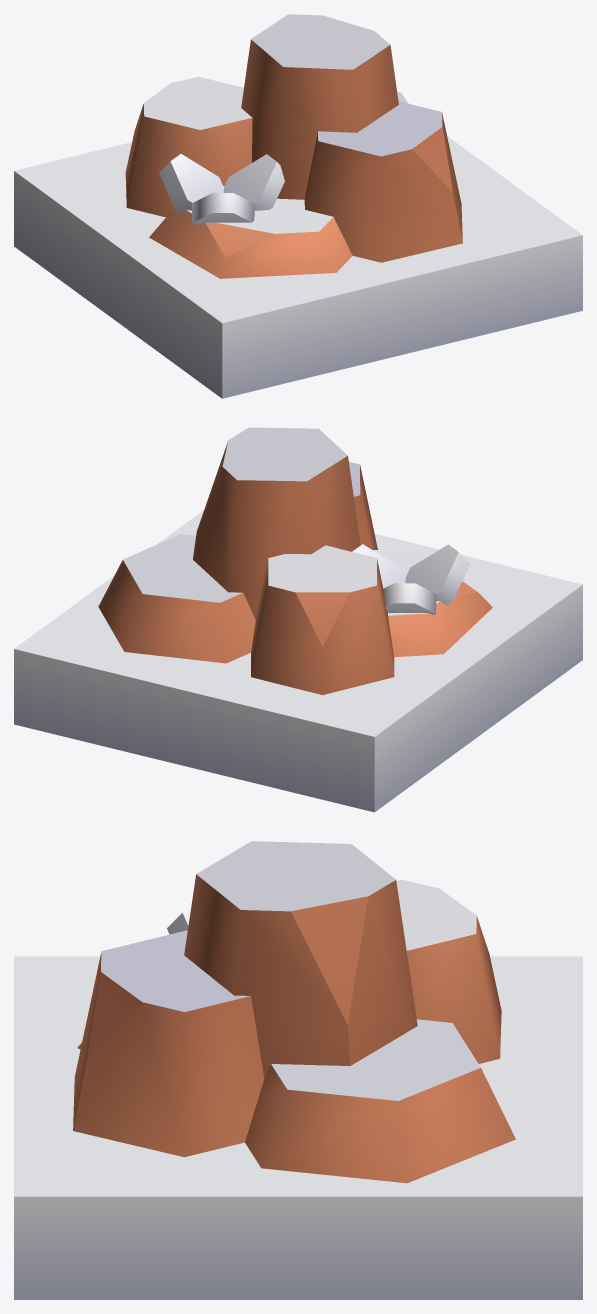
File: kenney-tower-defense-snow-tile-rock.glb
3 views of the same model, one above another, from view 1: azimuth 30°, elevation 25°; view 2: azimuth 150°, elevation 25°; view 3: azimuth 270°, elevation 25° (orthographic). The views are drawn at different scales.
Visible parts, largest first — view 1: snow-tile-rock; view 2: snow-tile-rock; view 3: snow-tile-rock.
Boxes of the visible parts, x1,y1,x2,y2 form: snow-tile-rock: (14, 14, 582, 398); snow-tile-rock: (14, 427, 582, 812); snow-tile-rock: (14, 841, 582, 1299).
Bounding box in the file's own units: 1 × 0.6146 × 1.
Materials: 1 (1 with a texture image).
